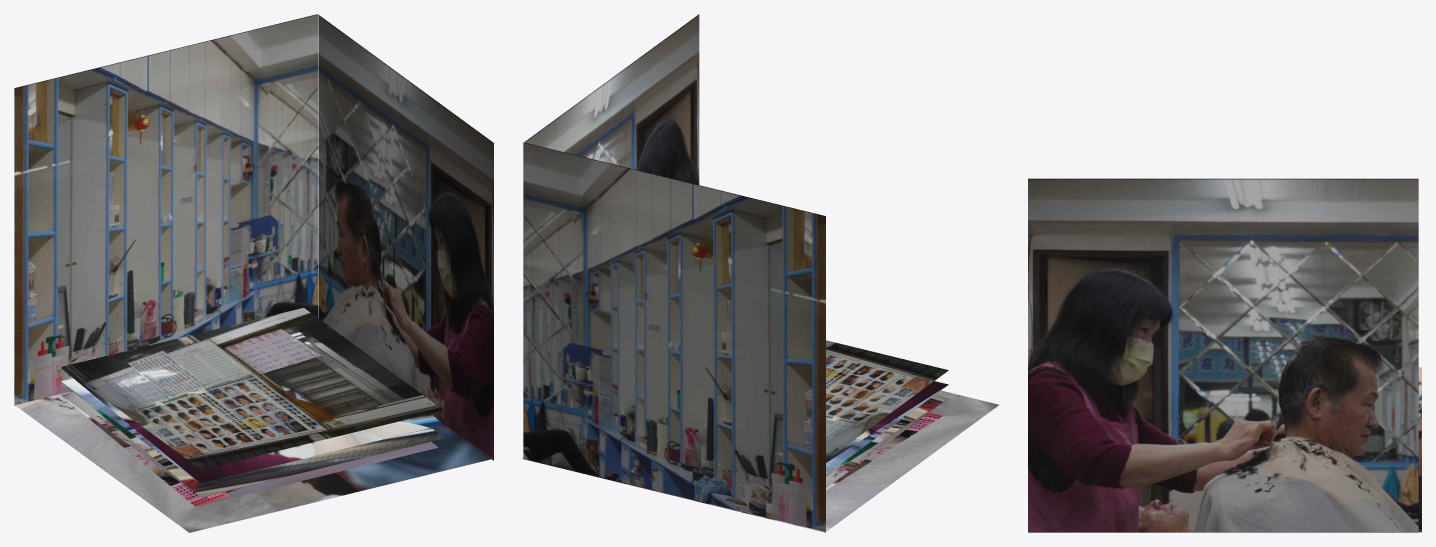
File: street.gltf
3 renders of one model, left to right at view 1: azimuth 30°, elevation 25°; view 2: azimuth 150°, elevation 25°; view 3: azimuth 270°, elevation 25°, orthographic. The views are drawn at different scales.
Visible parts, largest first — view 1: Plane, Plane.001, Plane.006, Plane.002, Plane.007, Plane.005, Plane.004, Plane.003, Plane.008; view 2: Plane, Plane.001, Plane.006, Plane.002, Plane.007, Plane.005, Plane.004, Plane.003, Plane.008; view 3: Plane.001, Plane.002.
Part boxes in pixels (x1,y1,x2,y2): Plane: (14, 14, 318, 405); Plane.001: (318, 15, 493, 460); Plane.006: (61, 308, 443, 469); Plane.002: (15, 391, 491, 532); Plane.007: (61, 368, 443, 483); Plane.005: (62, 382, 443, 497); Plane.004: (61, 395, 437, 506); Plane.003: (61, 392, 443, 497); Plane.008: (61, 378, 443, 483); Plane: (523, 142, 825, 532); Plane.001: (524, 14, 699, 184); Plane.006: (826, 340, 948, 459); Plane.002: (522, 390, 999, 532); Plane.007: (826, 381, 948, 462); Plane.005: (826, 395, 948, 475); Plane.004: (826, 412, 942, 489); Plane.003: (826, 398, 948, 487); Plane.008: (826, 385, 947, 474); Plane.001: (1028, 178, 1418, 532); Plane.002: (1031, 367, 1421, 532).
Size of the model in its own units: 3 by 3 by 3.03.
9 materials, 9 textured.
